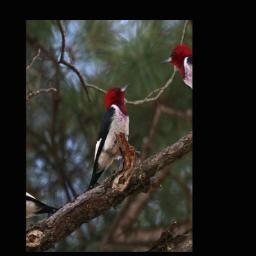Woodpecker: (55, 75, 158, 195)
